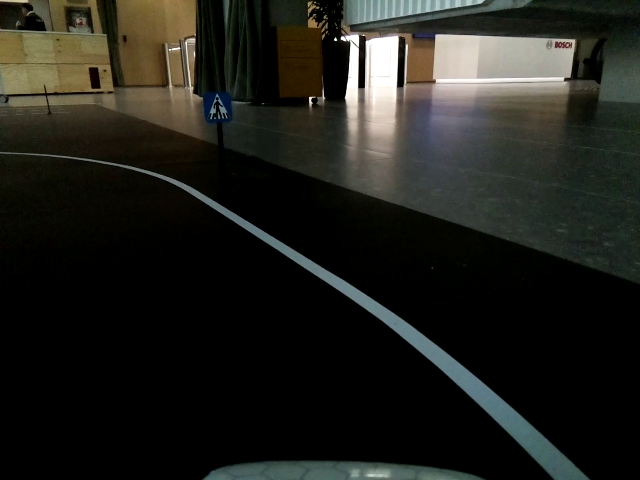pedestrians: (203, 93, 230, 123)
